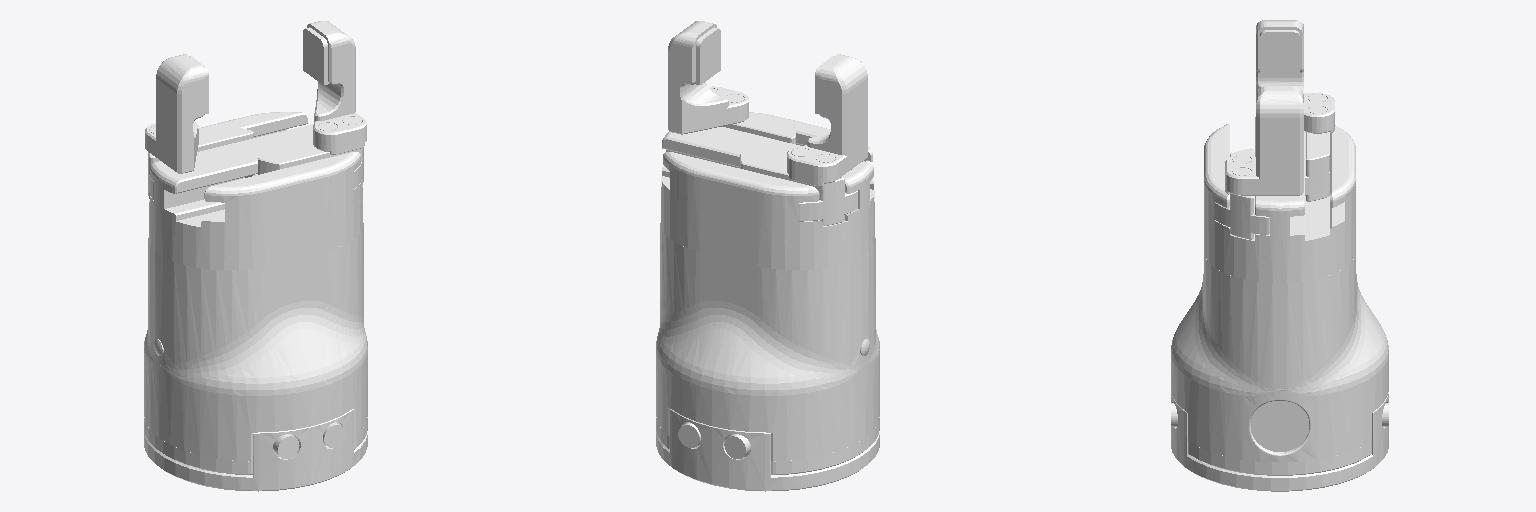
robot.urdf — pgc50new:
<?xml version="1.0" encoding="utf-8"?>
<!-- This URDF was automatically created by SolidWorks to URDF Exporter! Originally created by [author] ([email redacted]) 
     Commit Version: 1.6.0-4-g7f85cfe  Build Version: 1.6.7995.38578
     For more information, please see http://wiki.ros.org/sw_urdf_exporter -->
<robot
  name="pgc50new">
  <link
    name="base_link">
    <inertial>
      <origin
        xyz="-3.9257E-06 -0.00027208 0.037806"
        rpy="0 0 0" />
      <mass
        value="0.34365" />
      <inertia
        ixx="0.00036805"
        ixy="-7.2868E-08"
        ixz="-5.0168E-08"
        iyy="0.0003341"
        iyz="-2.6462E-06"
        izz="0.00022294" />
    </inertial>
    <visual>
      <origin
        xyz="0 0 0"
        rpy="0 0 0" />
      <geometry>
        <mesh
          filename="package://pgc50new/meshes/base_link.STL" />
      </geometry>
      <material
        name="">
        <color
          rgba="1 1 1 1" />
      </material>
    </visual>
    <collision>
      <origin
        xyz="0 0 0"
        rpy="0 0 0" />
      <geometry>
        <mesh
          filename="package://pgc50new/meshes/base_link.STL" />
      </geometry>
    </collision>
  </link>
  <link
    name="finger1_link">
    <inertial>
      <origin
        xyz="0.0030491 -0.0066024 0.0064209"
        rpy="0 0 0" />
      <mass
        value="0.014278" />
      <inertia
        ixx="1.7567E-06"
        ixy="-5.7832E-08"
        ixz="2.6803E-08"
        iyy="2.3034E-06"
        iyz="2.2145E-07"
        izz="1.3354E-06" />
    </inertial>
    <visual>
      <origin
        xyz="0 0 0"
        rpy="0 0 0" />
      <geometry>
        <mesh
          filename="package://pgc50new/meshes/finger1_link.STL" />
      </geometry>
      <material
        name="">
        <color
          rgba="1 1 1 1" />
      </material>
    </visual>
    <collision>
      <origin
        xyz="0 0 0"
        rpy="0 0 0" />
      <geometry>
        <mesh
          filename="package://pgc50new/meshes/finger1_link.STL" />
      </geometry>
    </collision>
  </link>
  <joint
    name="finger1_joint"
    type="prismatic">
    <origin
      xyz="0.025043 -0.01085 0.099"
      rpy="0 0 0" />
    <parent
      link="base_link" />
    <child
      link="finger1_link" />
    <axis
      xyz="1 0 0" />
    <limit
      lower="-0.0185"
      upper="0"
      effort="0"
      velocity="0" />
  </joint>
  <link
    name="finger2_link">
    <inertial>
      <origin
        xyz="0.0030491 -0.0066024 0.0064209"
        rpy="0 0 0" />
      <mass
        value="0.014278" />
      <inertia
        ixx="1.7567E-06"
        ixy="-5.7832E-08"
        ixz="2.6803E-08"
        iyy="2.3034E-06"
        iyz="2.2145E-07"
        izz="1.3354E-06" />
    </inertial>
    <visual>
      <origin
        xyz="0 0 0"
        rpy="0 0 0" />
      <geometry>
        <mesh
          filename="package://pgc50new/meshes/finger2_link.STL" />
      </geometry>
      <material
        name="">
        <color
          rgba="1 1 1 1" />
      </material>
    </visual>
    <collision>
      <origin
        xyz="0 0 0"
        rpy="0 0 0" />
      <geometry>
        <mesh
          filename="package://pgc50new/meshes/finger2_link.STL" />
      </geometry>
    </collision>
  </link>
  <joint
    name="finger2_joint"
    type="prismatic">
    <origin
      xyz="-0.025043 0.01085 0.099"
      rpy="0 0 0" />
    <parent
      link="base_link" />
    <child
      link="finger2_link" />
    <axis
      xyz="1 0 0" />
    <limit
      lower="0"
      upper="0"
      effort="0"
      velocity="0" />
    <mimic
      joint="finger1_joint"
      multiplier="-1"
      offset="0" />
  </joint>
</robot>

--- Facts derived from the render (not from the file) ---
The picture shows the robot from 3 angles, left to right: view 1: azimuth 30°, elevation 25°; view 2: azimuth 150°, elevation 25°; view 3: azimuth 270°, elevation 25°; orthographic projection.
Robot: pgc50new — 3 links, 2 joints (2 prismatic); root link base_link; default pose: all joints at 0.
Visible links, largest first — view 1: base_link, finger1_link, finger2_link; view 2: base_link, finger2_link, finger1_link; view 3: base_link, finger1_link, finger2_link.
Boxes of the visible links, box(x1,y1,x2,y2) form: base_link: box(144, 112, 367, 491); finger1_link: box(245, 21, 366, 188); finger2_link: box(145, 54, 253, 199); base_link: box(656, 112, 879, 491); finger2_link: box(740, 54, 867, 225); finger1_link: box(668, 21, 795, 143); base_link: box(1171, 117, 1388, 491); finger1_link: box(1215, 86, 1303, 239); finger2_link: box(1256, 20, 1334, 201).
Bounding box of the posed robot: 0.0637 × 0.063 × 0.127 m (x, y, z).
Meshes: 3 distinct files referenced, 3 mesh visuals loaded (3 binary STL).
